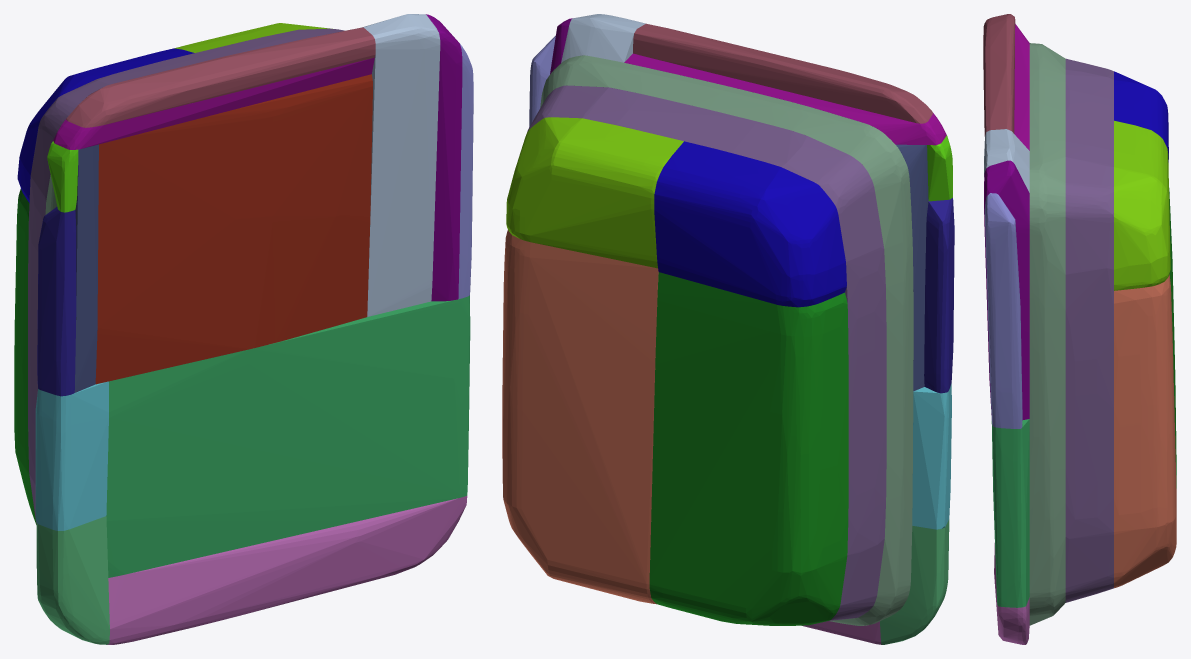
Rendered from coacd_collision.obj.
3 views of the same model, side by side, from view 1: azimuth 30°, elevation 25°; view 2: azimuth 150°, elevation 25°; view 3: azimuth 270°, elevation 25° (orthographic). The views are drawn at different scales.
Parts seen in each view (by area): view 1: geometry_10, geometry_15, geometry_7, geometry_6, geometry_13, geometry_2, geometry_1, geometry_3, geometry_18, geometry_11, geometry_14, geometry_16 (+5 smaller); view 2: geometry_8, geometry_9, geometry_1, geometry_0, geometry_5, geometry_4, geometry_13, geometry_18, geometry_2, geometry_3, geometry_14, geometry_16 (+4 smaller); view 3: geometry_1, geometry_0, geometry_9, geometry_4, geometry_12, geometry_10, geometry_11, geometry_13, geometry_5, geometry_14, geometry_6, geometry_7 (+1 smaller).
Boxes of the visible parts, <box> form: geometry_10: <box>106,295,470,577</box>; geometry_15: <box>95,74,372,384</box>; geometry_7: <box>107,496,467,644</box>; geometry_6: <box>362,14,440,316</box>; geometry_13: <box>66,27,375,127</box>; geometry_2: <box>35,381,108,530</box>; geometry_1: <box>28,28,344,523</box>; geometry_3: <box>36,516,109,644</box>; geometry_18: <box>37,207,76,396</box>; geometry_11: <box>426,14,462,301</box>; geometry_14: <box>53,57,374,149</box>; geometry_16: <box>74,144,98,392</box>; geometry_8: <box>649,272,848,625</box>; geometry_9: <box>502,230,658,604</box>; geometry_1: <box>527,85,886,620</box>; geometry_0: <box>540,55,913,625</box>; geometry_5: <box>654,141,846,307</box>; geometry_4: <box>506,117,683,268</box>; geometry_13: <box>633,23,932,123</box>; geometry_18: <box>924,198,954,393</box>; geometry_2: <box>912,383,951,529</box>; geometry_3: <box>880,519,949,644</box>; geometry_14: <box>624,53,946,145</box>; geometry_16: <box>896,144,928,391</box>; geometry_1: <box>1065,58,1113,602</box>; geometry_0: <box>1029,43,1065,625</box>; geometry_9: <box>1114,274,1176,588</box>; geometry_4: <box>1114,120,1170,290</box>; geometry_12: <box>984,193,1022,428</box>; geometry_10: <box>991,419,1029,607</box>; geometry_11: <box>984,160,1029,419</box>; geometry_13: <box>983,14,1015,136</box>; geometry_5: <box>1114,71,1168,162</box>; geometry_14: <box>1014,24,1029,150</box>; geometry_6: <box>984,129,1029,192</box>; geometry_7: <box>994,543,1029,644</box>.
Size of the model in its own units: 139 by 175 by 61.68.
